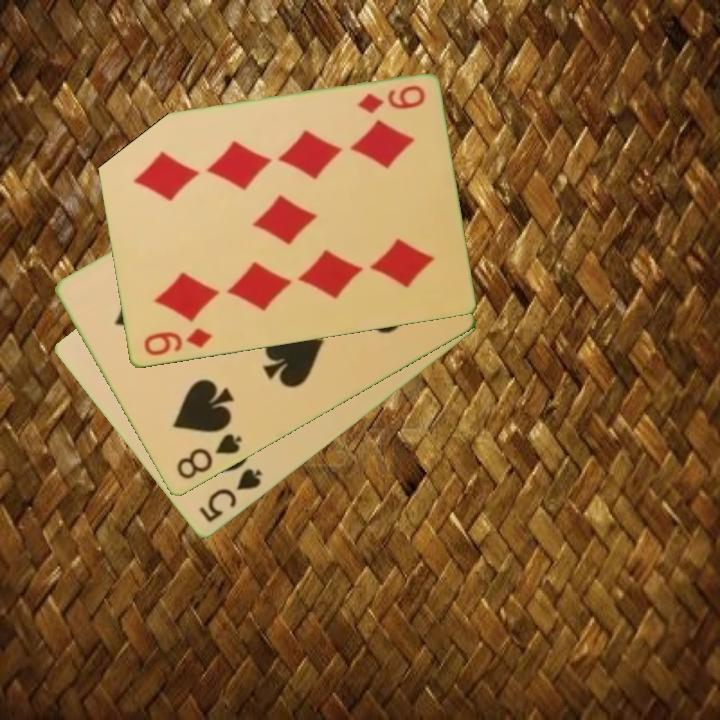5s: (195, 465, 265, 526)
8s: (172, 430, 245, 483)
9d: (140, 325, 215, 360), (353, 82, 428, 117)
